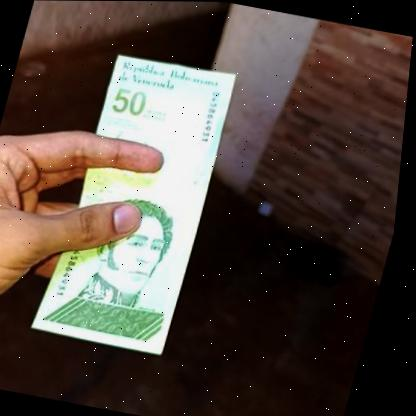fifty-front-vef: (36, 48, 244, 356)
